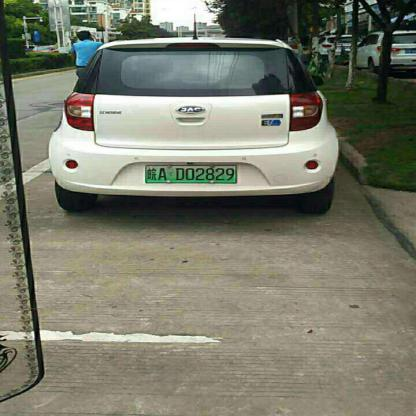lp: (146, 165, 237, 183)
